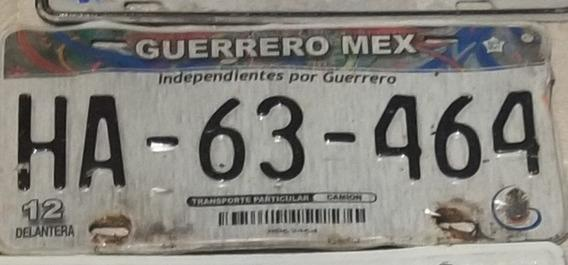Number plate: (3, 23, 568, 247)
